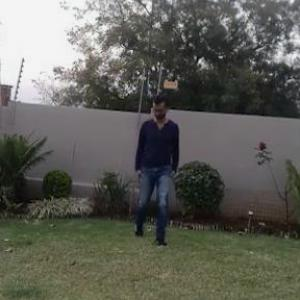follow: (136, 89, 188, 253)
